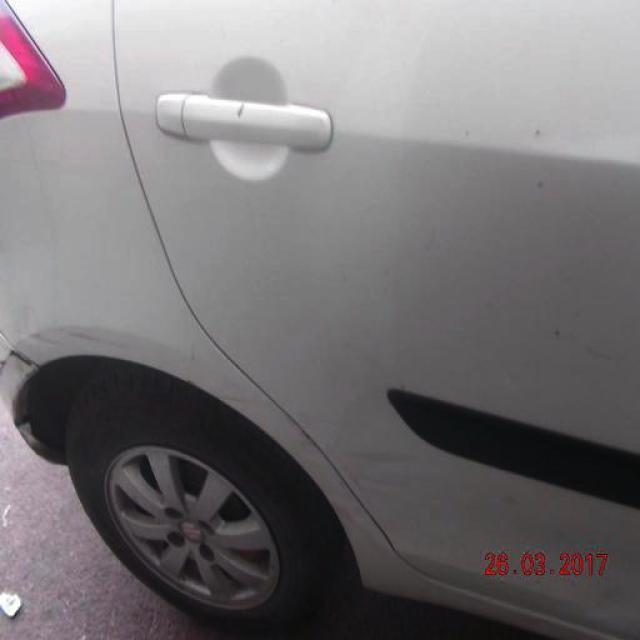car damage: (0, 303, 474, 334), (0, 0, 400, 12)
